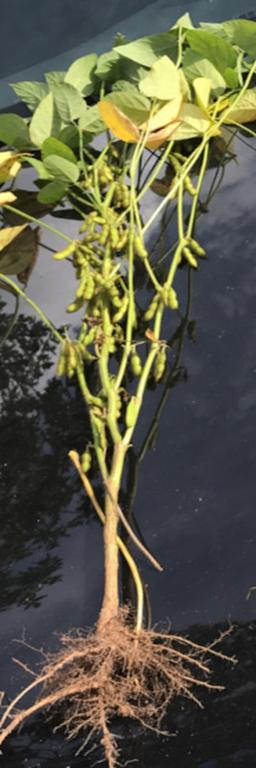pod: (153, 348, 167, 383), (52, 237, 75, 258), (112, 299, 128, 325), (144, 296, 159, 321), (55, 349, 68, 377), (182, 250, 199, 270), (136, 235, 150, 259), (192, 240, 211, 257), (125, 399, 135, 428), (83, 275, 93, 302), (98, 222, 109, 245), (79, 451, 91, 472), (168, 288, 178, 312), (131, 356, 144, 374), (185, 178, 197, 197), (112, 226, 120, 251)
soy: (12, 68, 236, 744)
